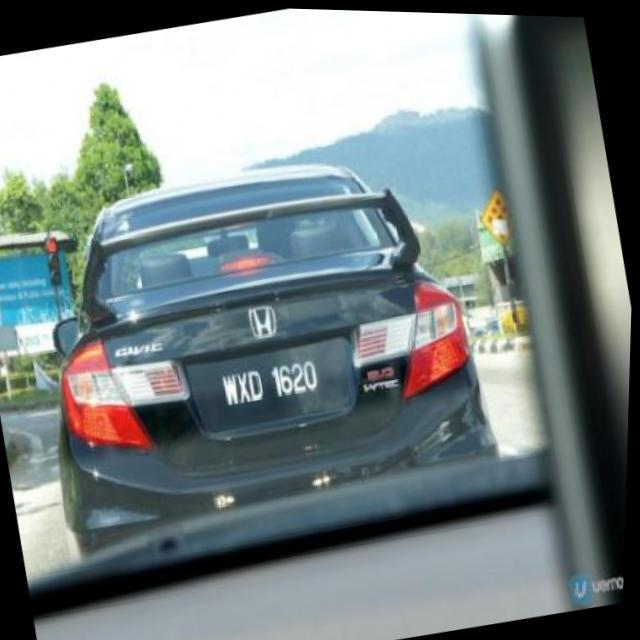license_plate: (185, 331, 359, 436)
